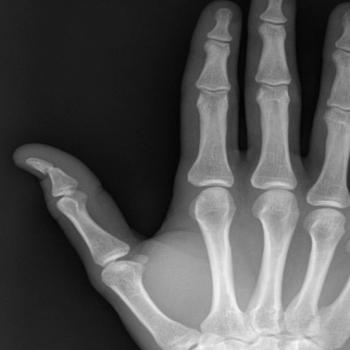Fracture: (35, 154, 63, 184)
